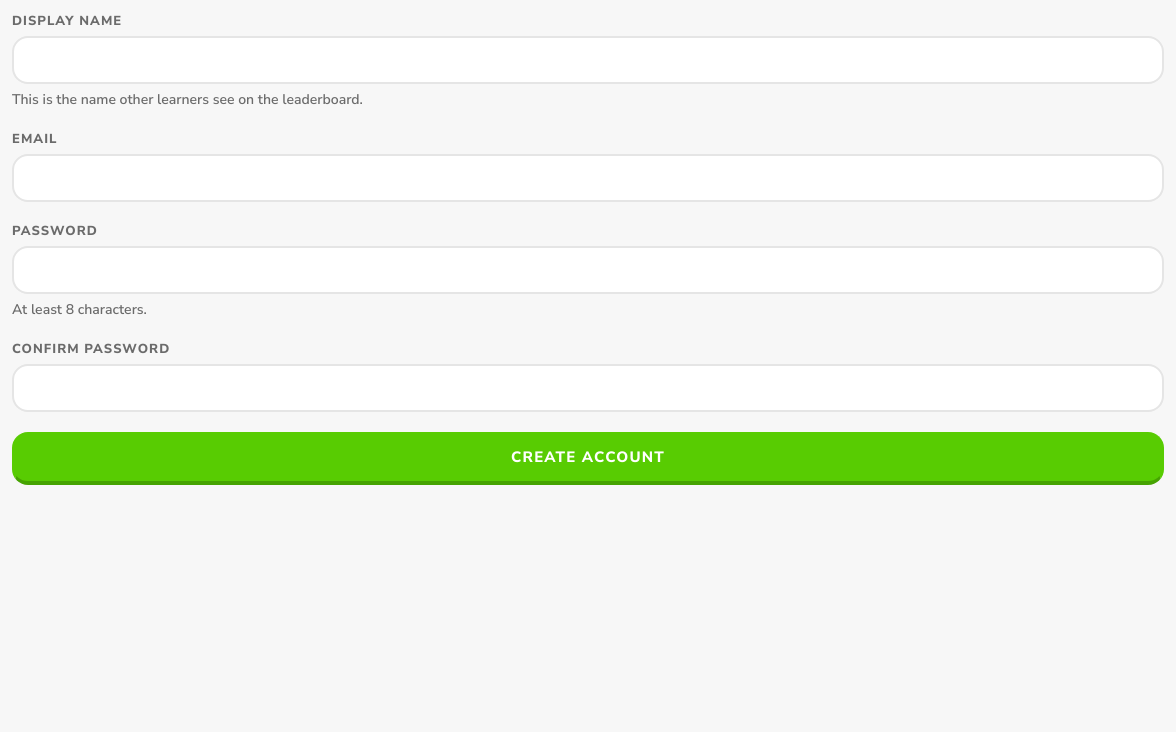
Scenario: RegisterForm › mismatched passwords are caught before any request
Type "Alice" into the field labelled "Display name" at (588, 60), box [12,36,1164,84]
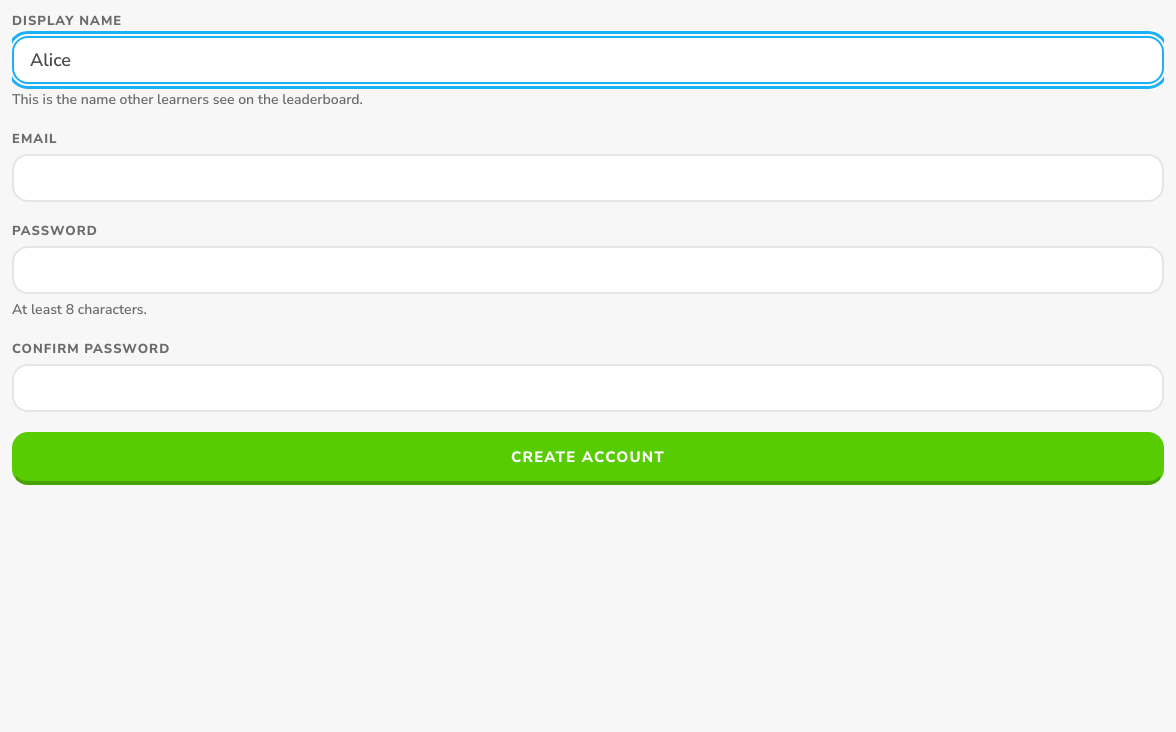
Type "alice@example.com" into the field labelled "Email" at (588, 178), box [12,154,1164,202]
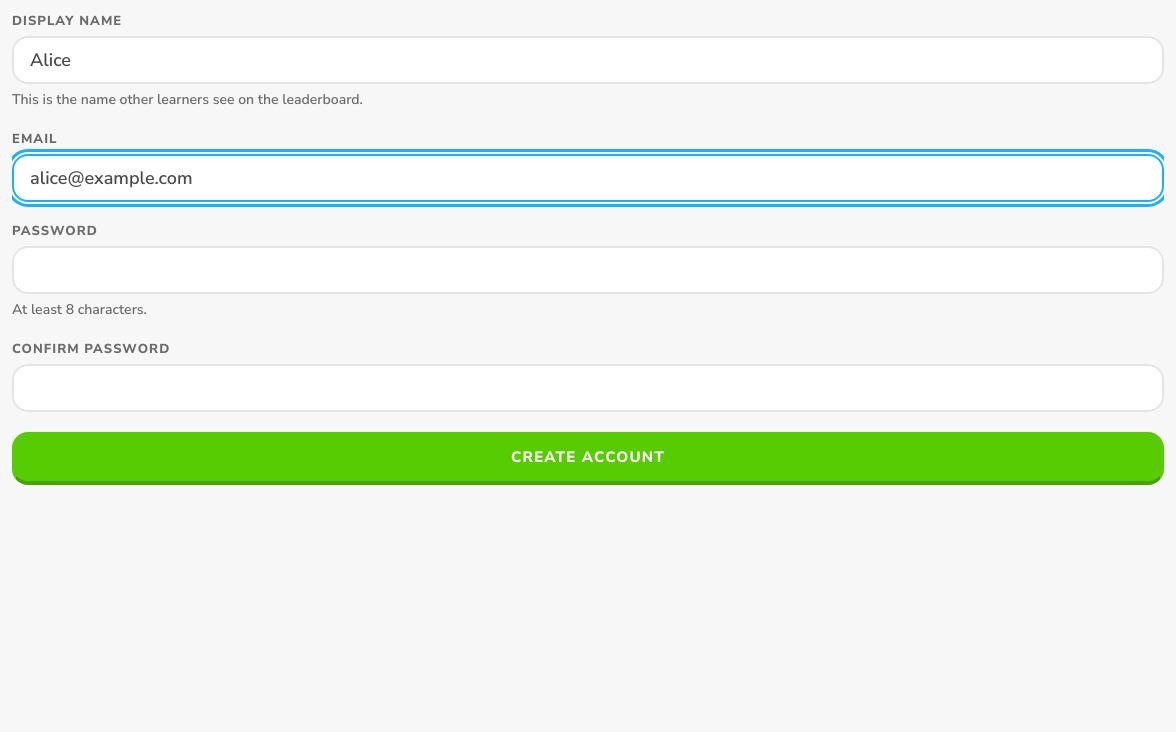
Type "password123" into the password field labelled "Password" at (588, 270), box [12,246,1164,294]
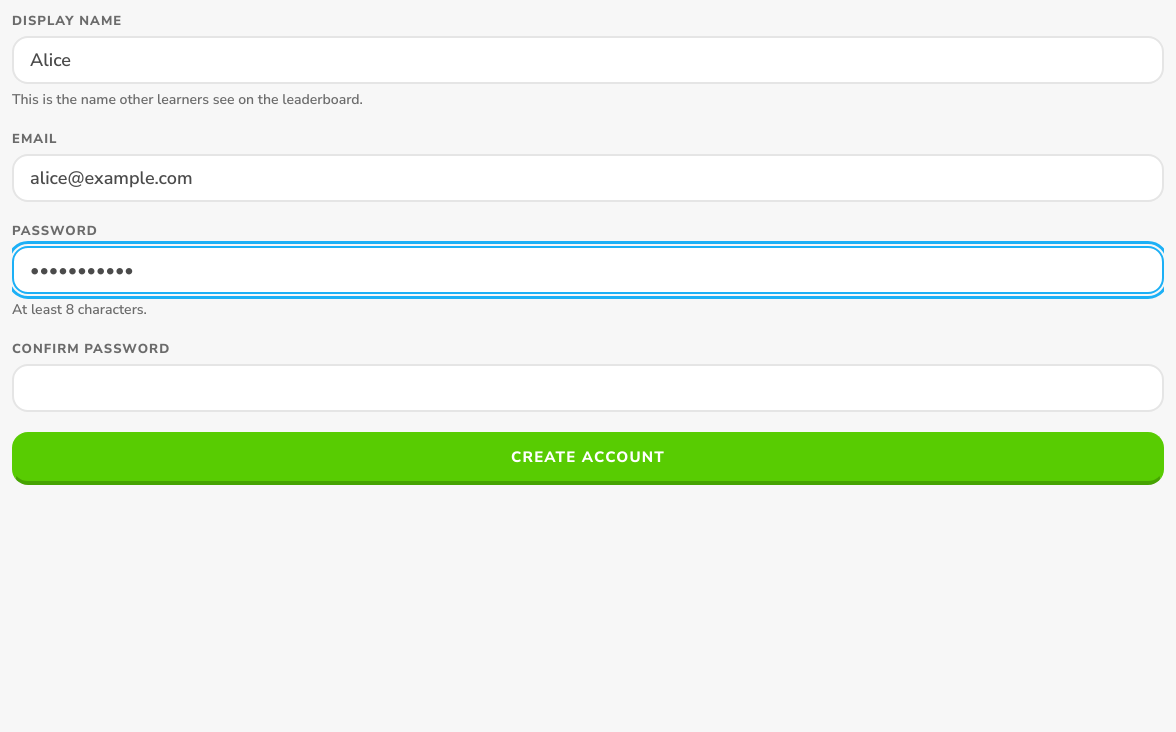
Type "different1" into the password field labelled "Confirm password" at (588, 388), box [12,364,1164,412]
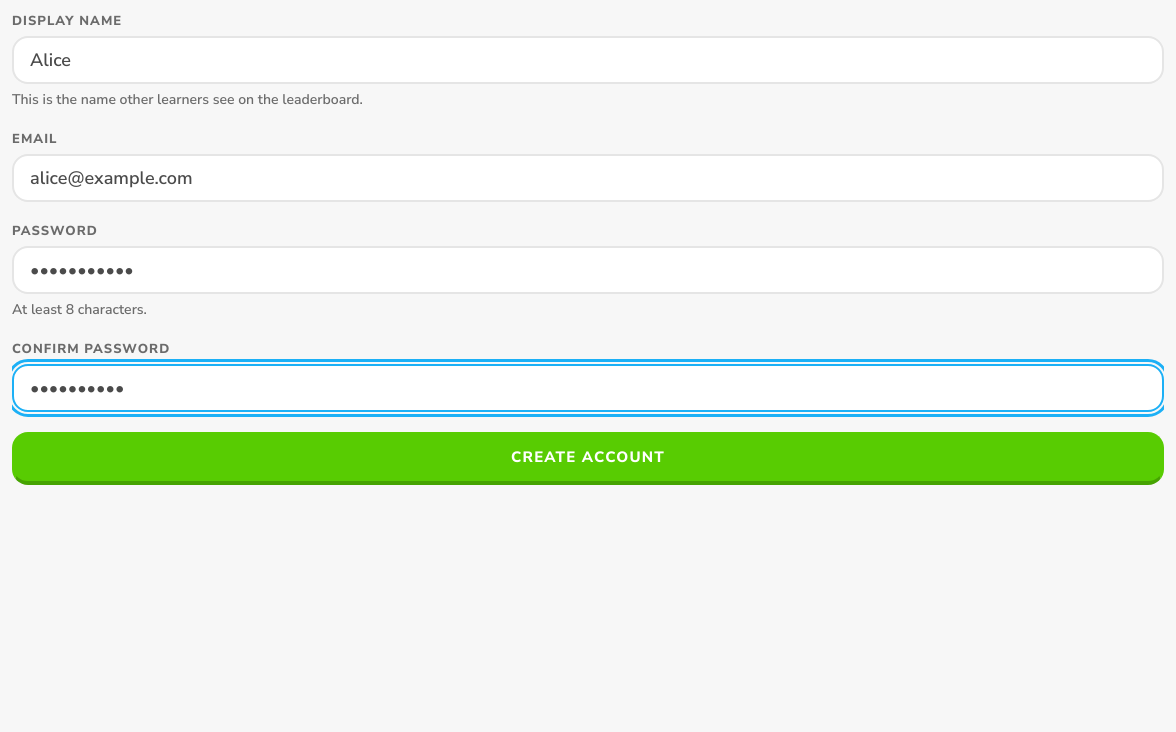
Click the button "Create account" at (588, 458), box [12,432,1164,484]
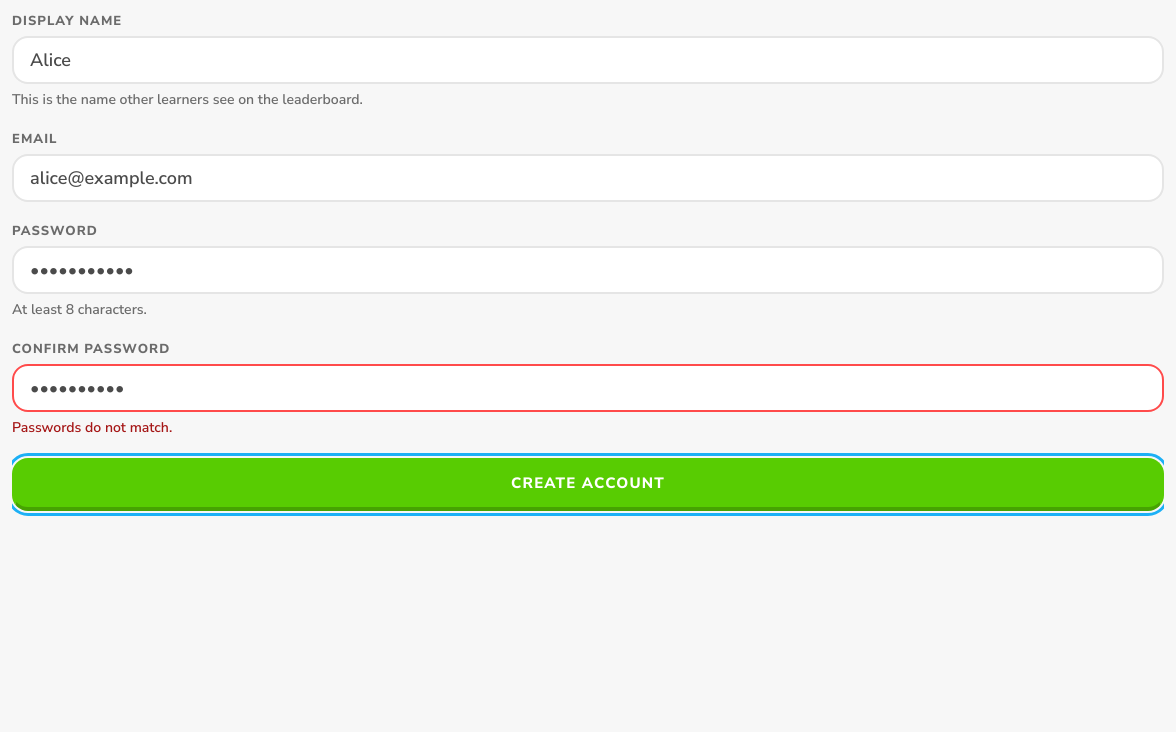
Expected: the text "Passwords do not match." is shown, [12,418,172,437]
